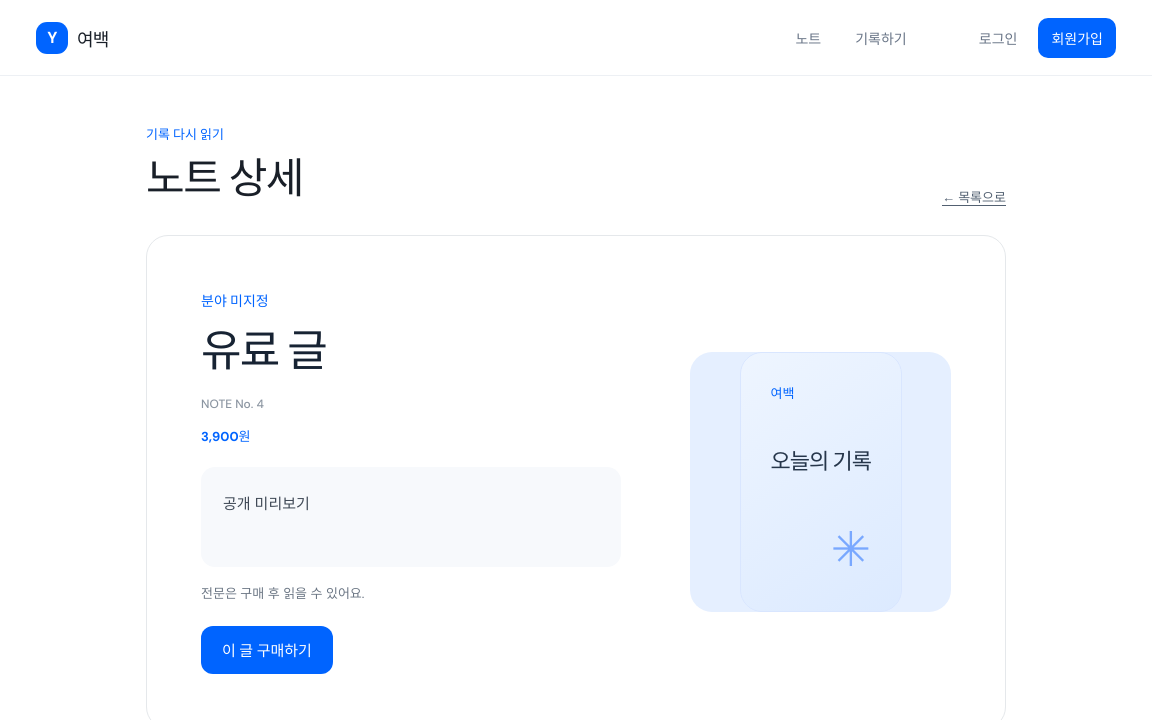
Test: 여백 페이지 흐름 › 구매 성공 후 상세를 다시 불러와 본문을 표시한다
Click the button with test id "purchase-note" at (267,650), box [201, 626, 333, 674]
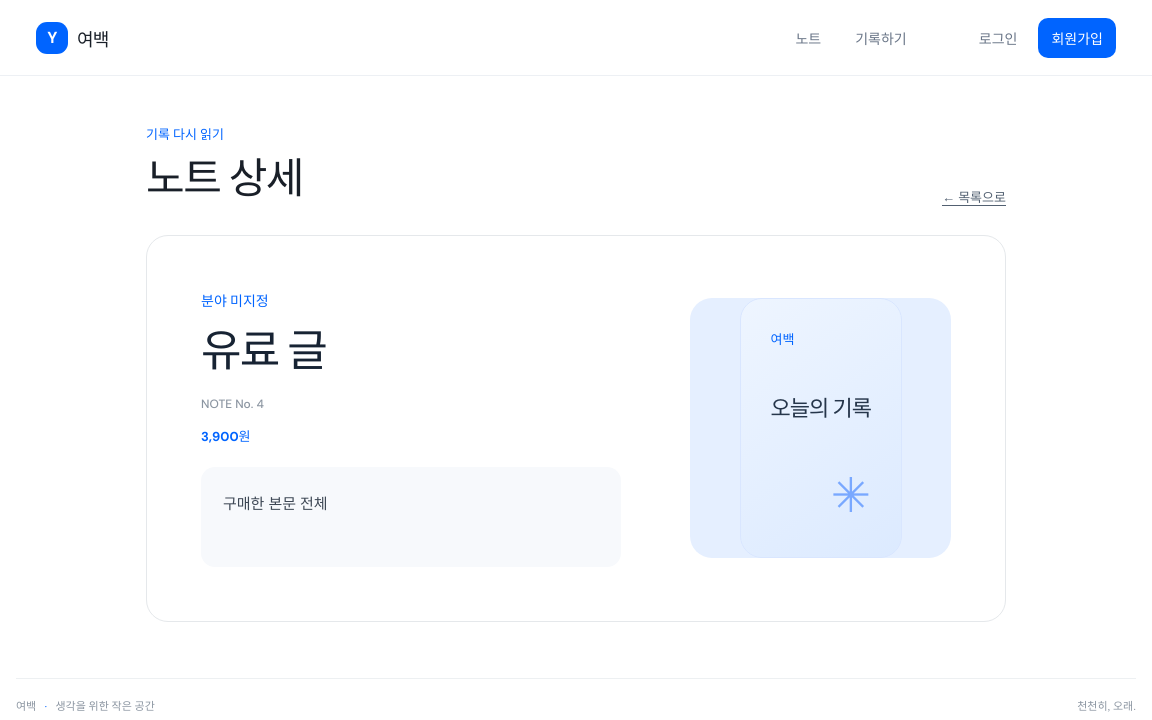
Now the text "구매한 본문 전체" is shown, box [201, 467, 621, 567]
